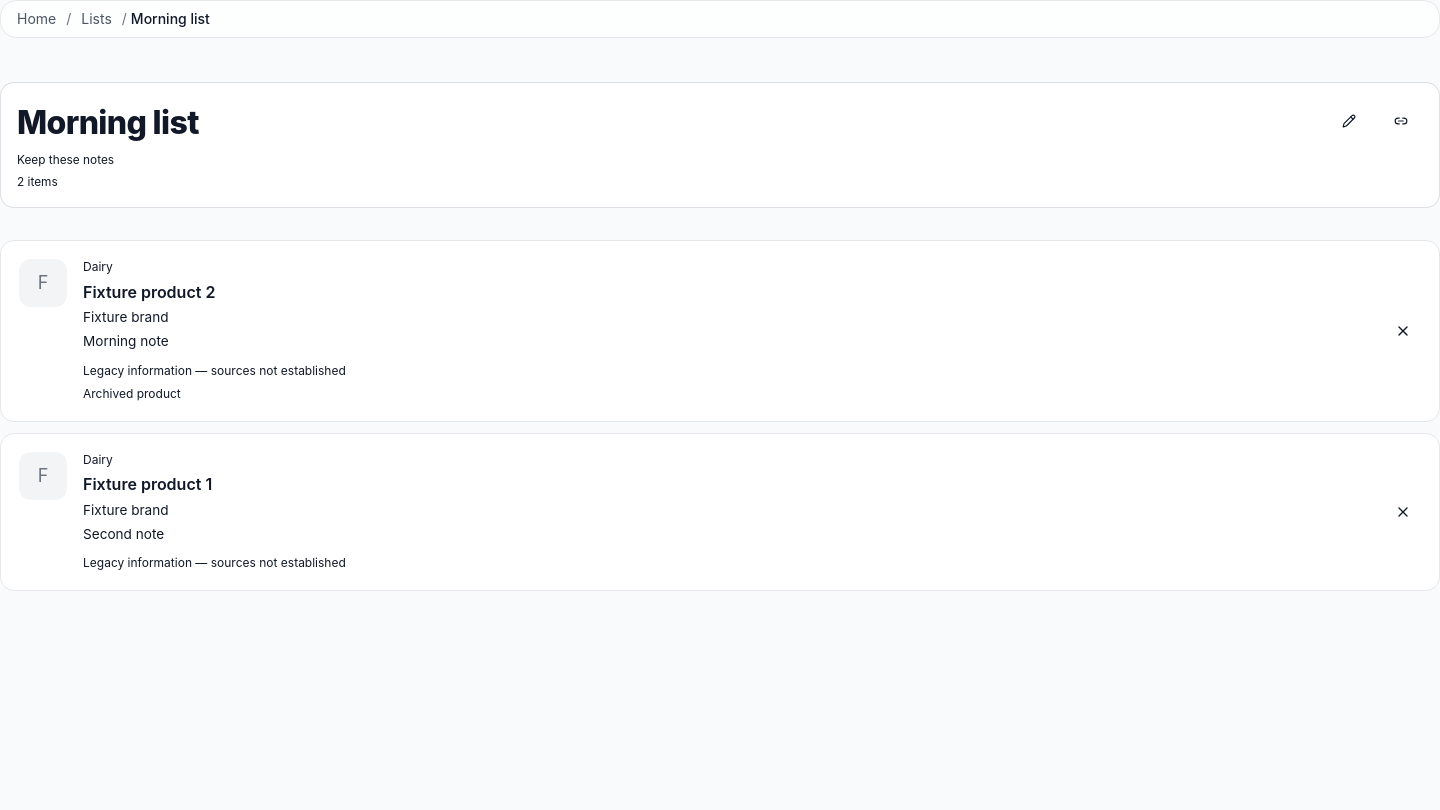
it: evidence-first saved list › keeps rows and notes after transport removal failure
Expected: the heading "Morning list" is shown, [17,99,199,147]
Click the button named "Remove from list Fixture product 2" at {"x": 1403, "y": 331}, box [1381,309,1425,353]
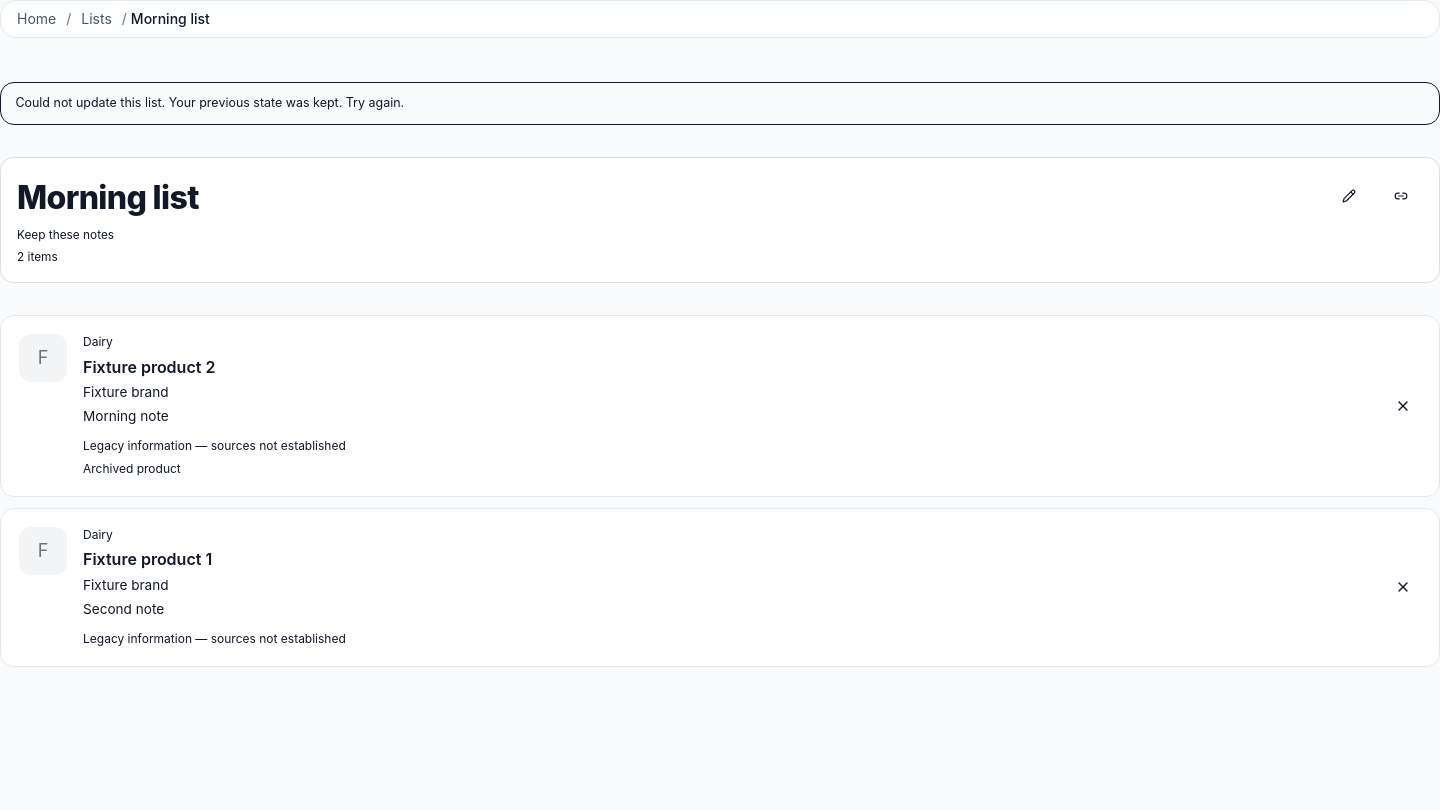
Expected: the text "Morning note" is shown, [83,408,169,424]
Result: the message reads "Could not update this list. Your previous state was kept. Try again." at [15,95,404,110]
